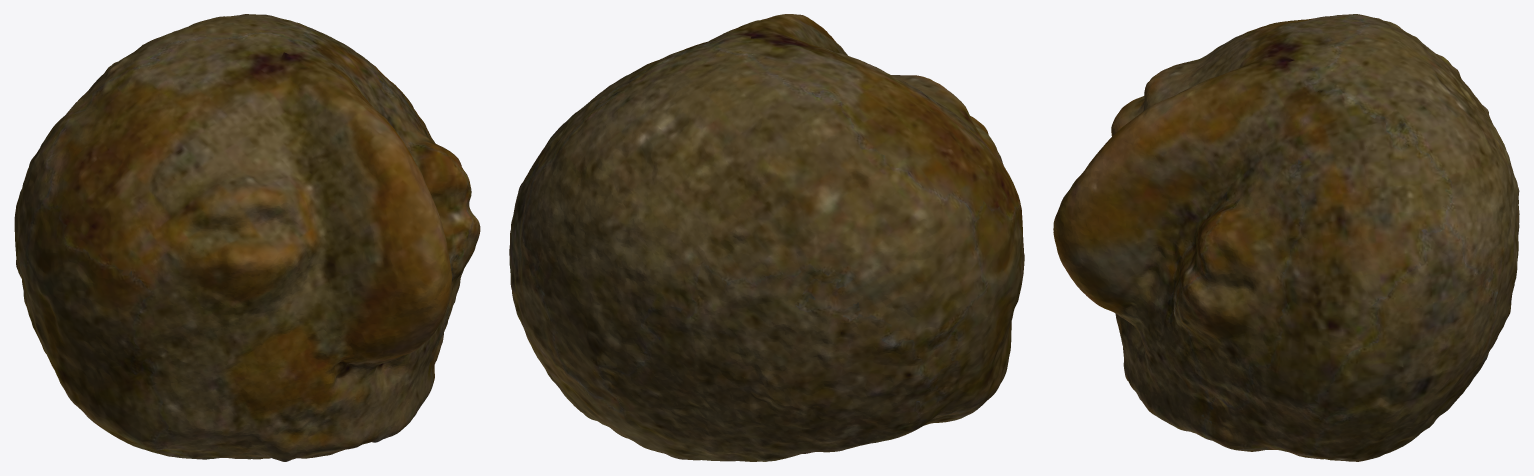
Rendered from SAS-5A-9-3_JN_2022_2_G3D.fbx.
3 renders of one model, left to right at view 1: azimuth 30°, elevation 25°; view 2: azimuth 150°, elevation 25°; view 3: azimuth 270°, elevation 25°, orthographic. The views are drawn at different scales.
Visible parts, largest first — view 1: SAS-5A-9-3_JN_2022_2_G3D_LOD00; view 2: SAS-5A-9-3_JN_2022_2_G3D_LOD00; view 3: SAS-5A-9-3_JN_2022_2_G3D_LOD00.
Boxes of the visible parts, bbox=[...] form: SAS-5A-9-3_JN_2022_2_G3D_LOD00: bbox=[14, 14, 480, 461]; SAS-5A-9-3_JN_2022_2_G3D_LOD00: bbox=[509, 14, 1024, 461]; SAS-5A-9-3_JN_2022_2_G3D_LOD00: bbox=[1053, 14, 1519, 461].
Size of what is drawn, in the model's own units: 3281 by 2663 by 3139.
1 material, 1 textured.
